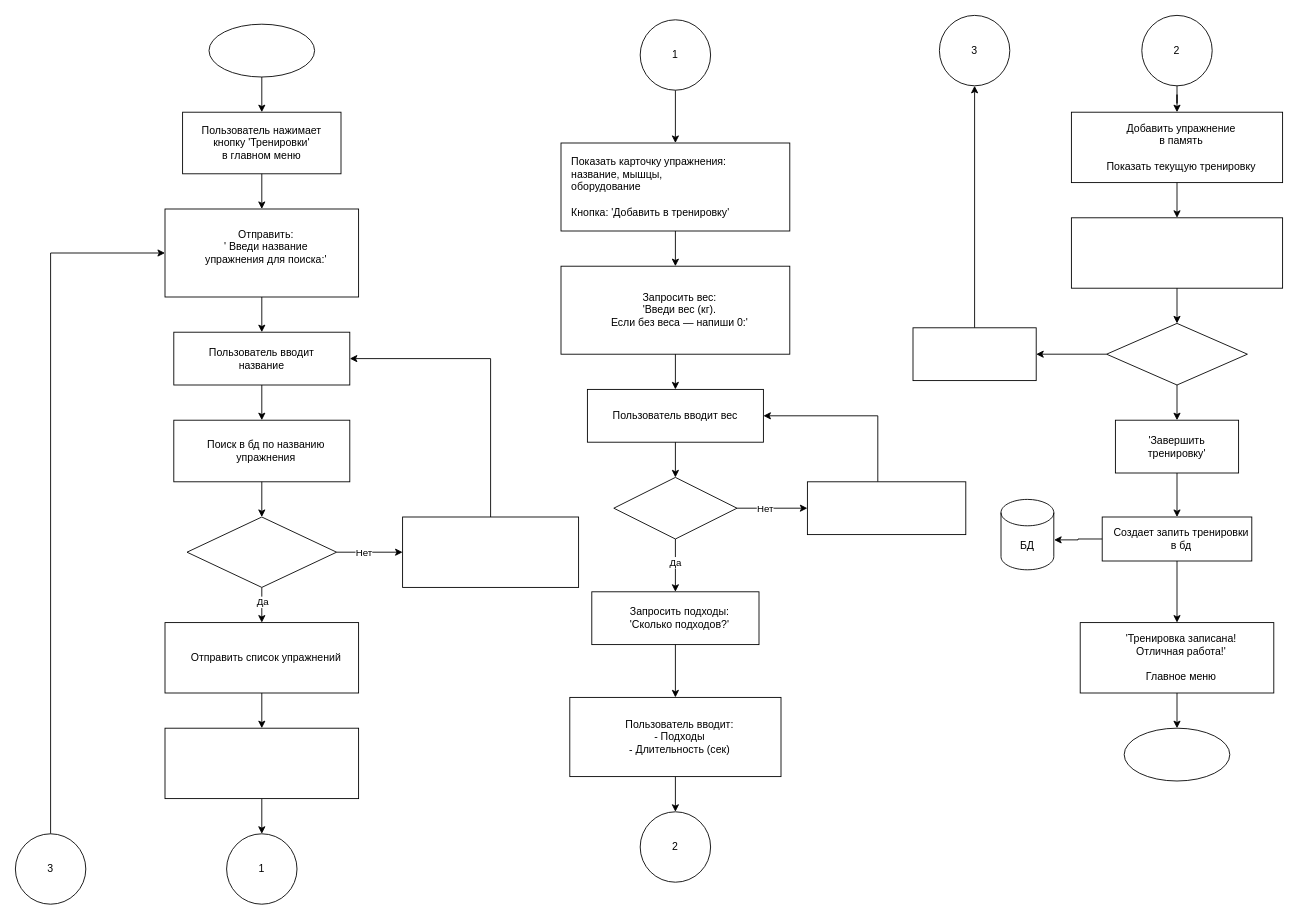
This 1298x920 diagram has some shape labels left out. The box of each missing label's shape, as (x1, y1, x2, y2) in pixels:
'Введи число (вес в кг)': (807, 481, 966, 535)
'Добавить ещё': (912, 327, 1036, 381)
Выбор?: (1106, 323, 1247, 385)
Конец: (1123, 727, 1230, 781)
Корректное число?: (613, 477, 737, 539)
Начало: (208, 23, 315, 77)
Отправить: 'По запросу ничего не найдено. Попробуй другое название': (402, 516, 579, 587)
Показать меню: - Добавить ещё - Завершить тренировку - Главное меню: (1071, 217, 1283, 288)
Пользователь отправляет команду: (164, 727, 359, 799)
Упражнения найдены?: (186, 516, 337, 587)
